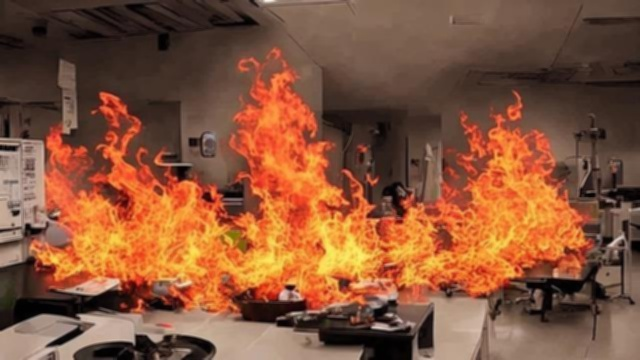fire: (27, 68, 604, 301)
